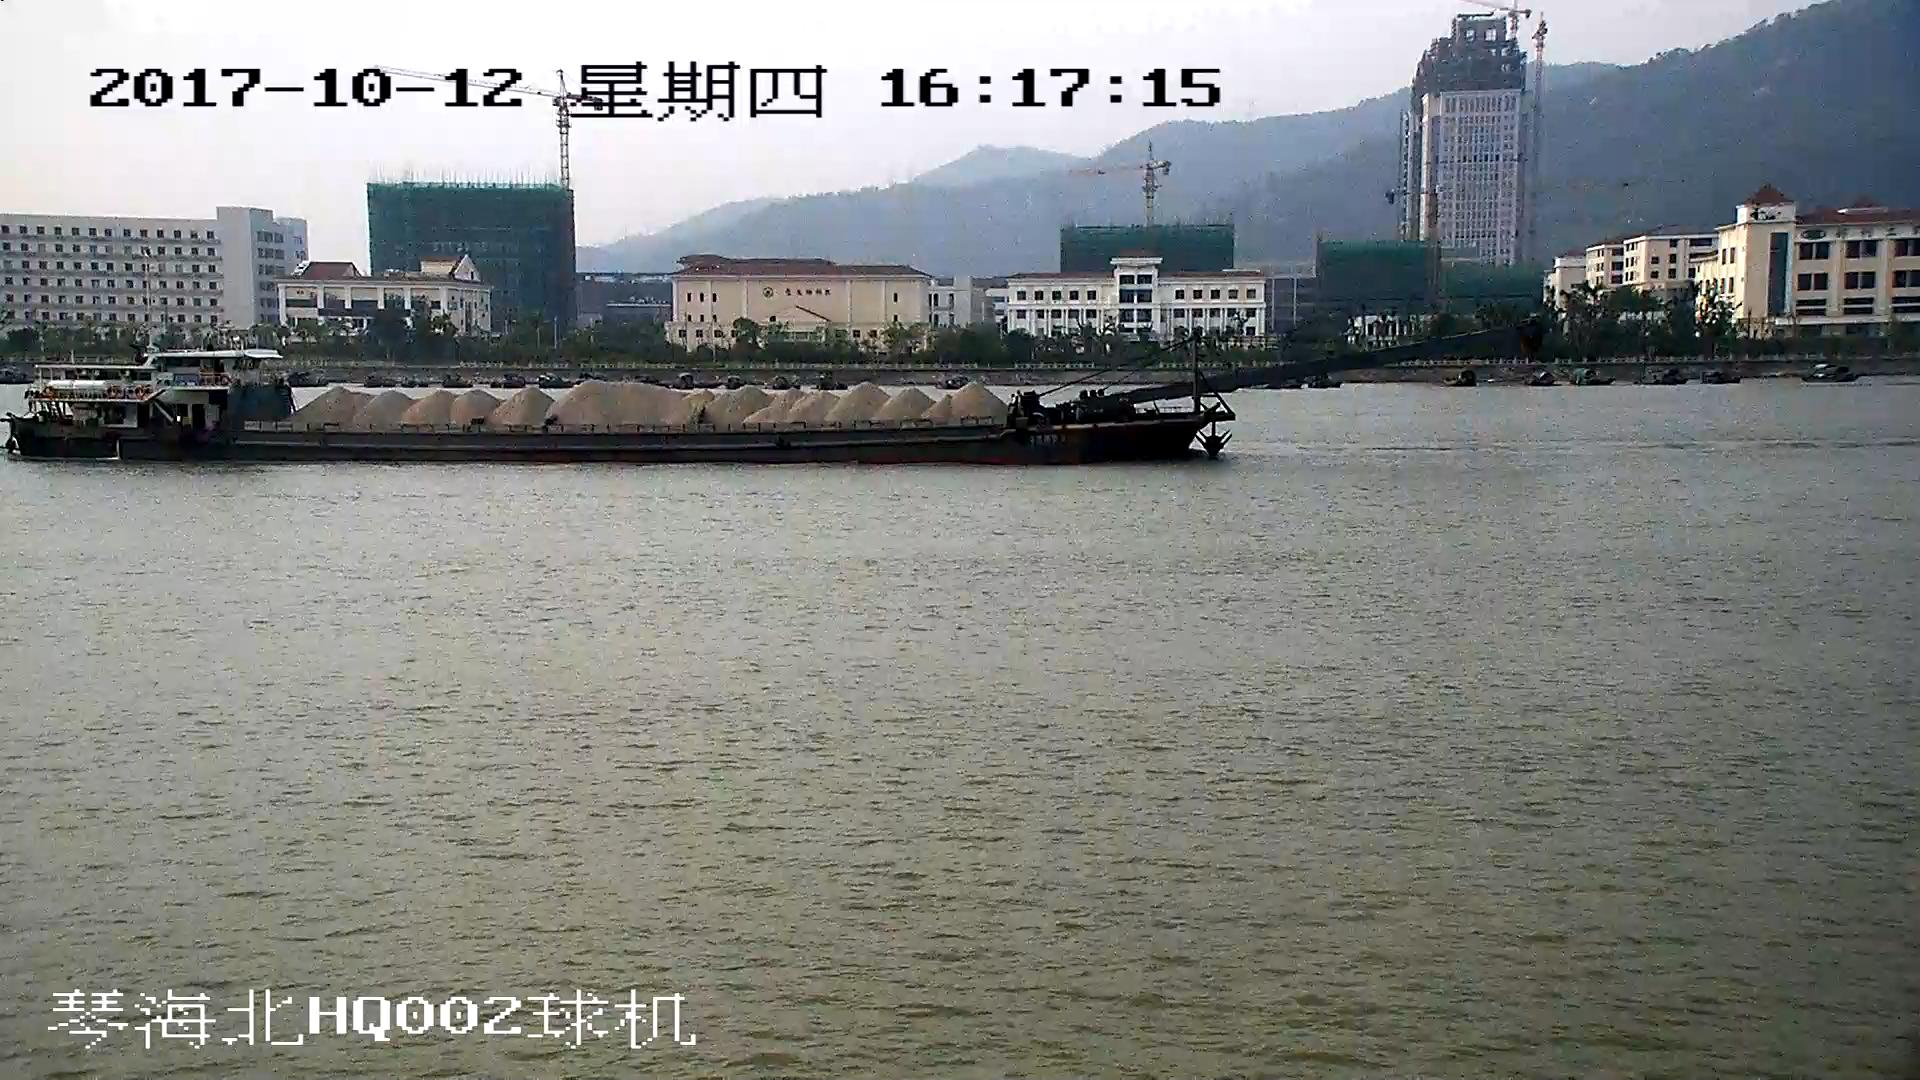ore carrier: (7, 319, 1536, 461)
